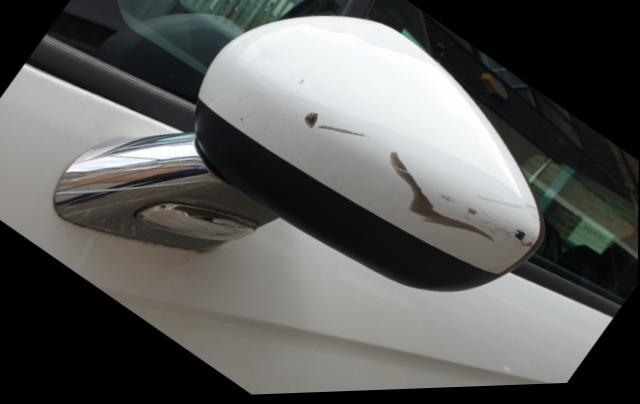scratch: (302, 107, 530, 255)
